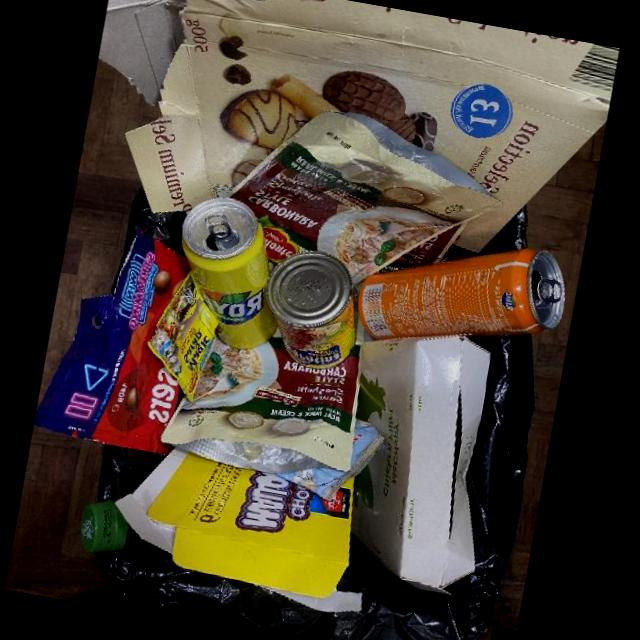bao_bi_thuc_pham: (227, 110, 500, 285), (32, 226, 190, 456), (160, 312, 365, 474), (147, 271, 218, 403), (276, 419, 384, 500)
carton: (97, 0, 619, 254), (114, 448, 362, 613), (349, 336, 490, 592)
nhom: (357, 249, 565, 340), (181, 198, 276, 350), (265, 251, 355, 369)
